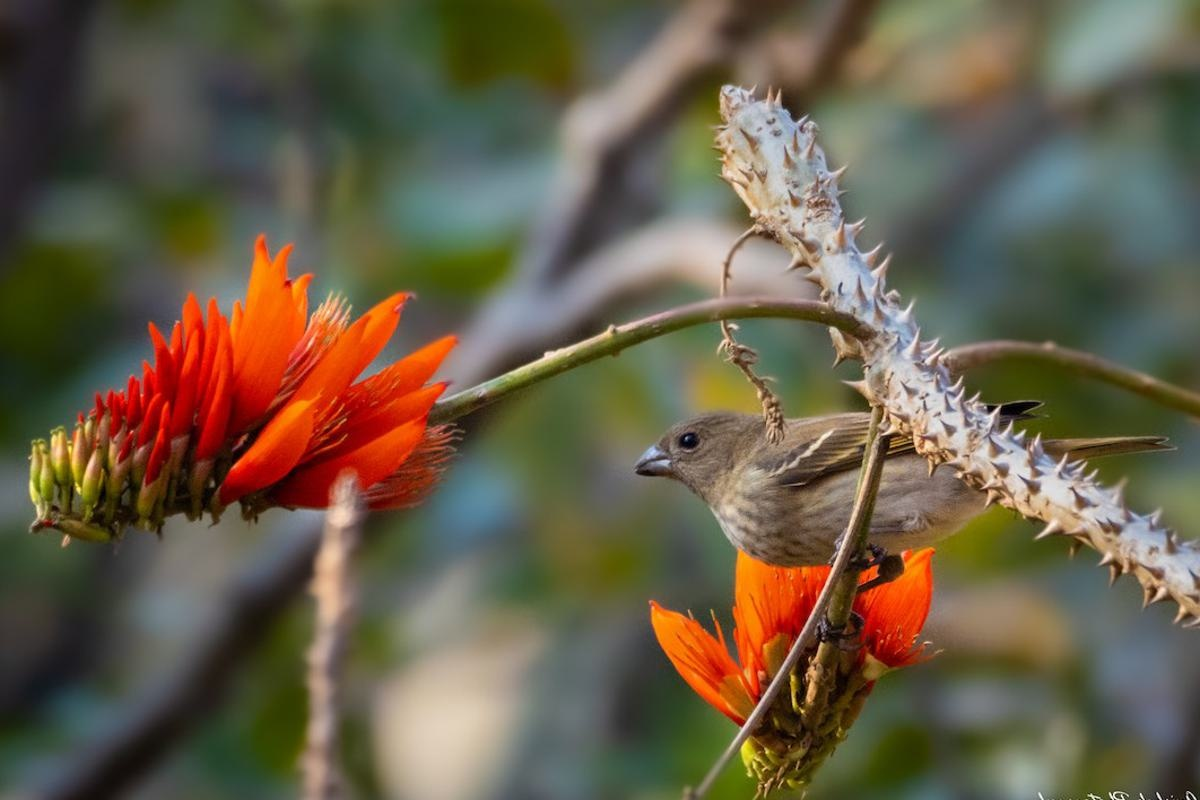rosefinch: (625, 365, 1093, 575)
